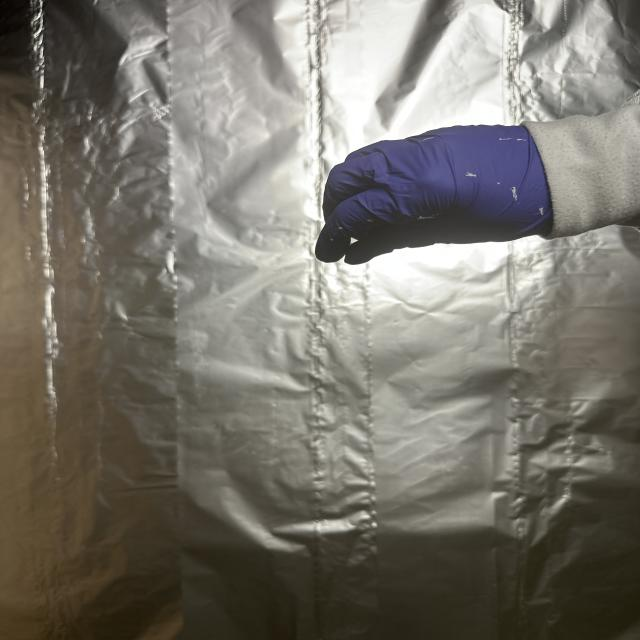gloves_contaminated: (316, 125, 552, 264)
